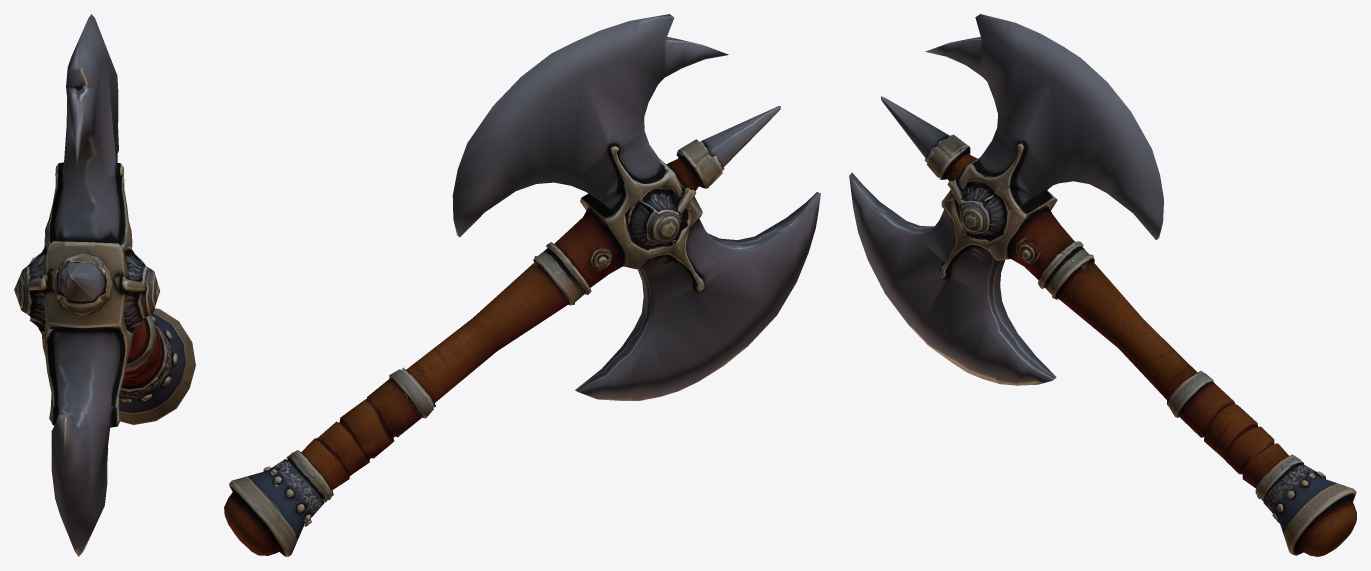
File: axe.glb
The picture shows the model from 3 angles, left to right: view 1: azimuth 30°, elevation 25°; view 2: azimuth 150°, elevation 25°; view 3: azimuth 270°, elevation 25°; orthographic projection. The views are drawn at different scales.
Parts seen in each view (by area): view 1: tripo_node_54ba346d-ed57-4bdd-a9e2-fd301732e57a; view 2: tripo_node_54ba346d-ed57-4bdd-a9e2-fd301732e57a; view 3: tripo_node_54ba346d-ed57-4bdd-a9e2-fd301732e57a.
Part boxes in pixels (x1,y1,x2,y2): tripo_node_54ba346d-ed57-4bdd-a9e2-fd301732e57a: (14, 14, 195, 556); tripo_node_54ba346d-ed57-4bdd-a9e2-fd301732e57a: (224, 14, 820, 556); tripo_node_54ba346d-ed57-4bdd-a9e2-fd301732e57a: (849, 14, 1356, 556).
Bounding box in the file's own units: 0.7402 × 0.9551 × 0.998.
Materials: 1 (1 with a texture image).
